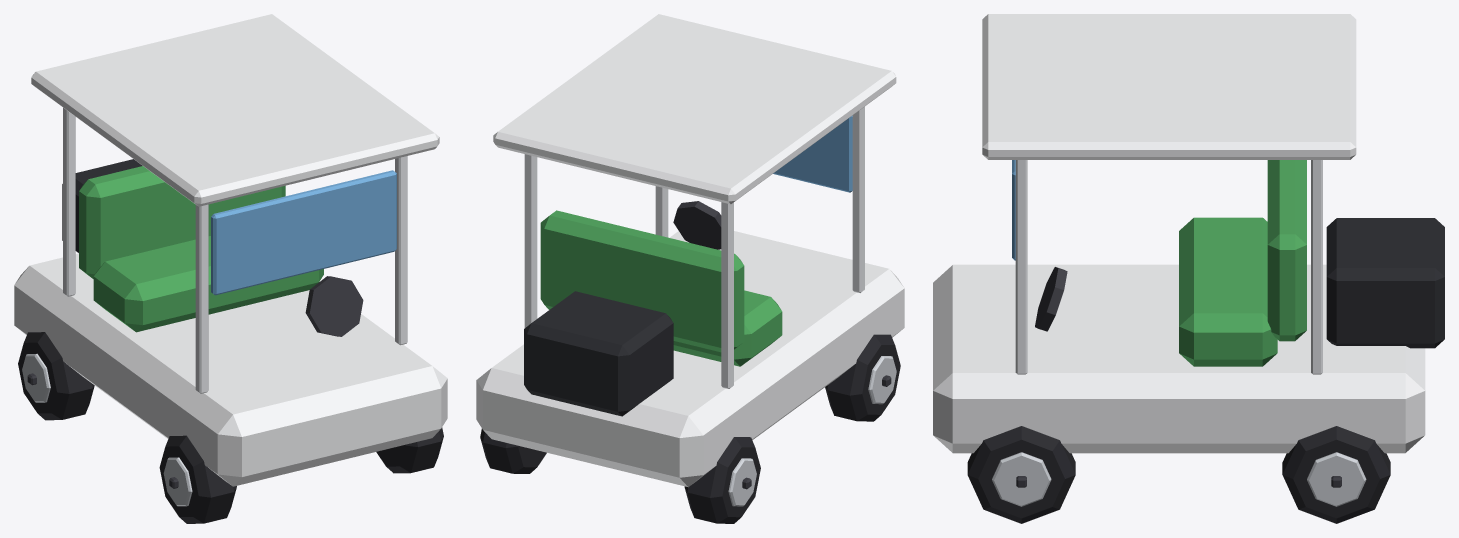
File: GolfCart.fbx
3 renders of one model, left to right at view 1: azimuth 30°, elevation 25°; view 2: azimuth 150°, elevation 25°; view 3: azimuth 270°, elevation 25°, orthographic. The views are drawn at different scales.
Visible parts, largest first — view 1: GolfCart, GolfCart_WheelBR, GolfCart_WheelFR, GolfCart_WheelFL; view 2: GolfCart, GolfCart_WheelFR, GolfCart_WheelBR, GolfCart_WheelBL; view 3: GolfCart, GolfCart_WheelFL, GolfCart_WheelBL.
Part boxes in pixels (x1,y1,x2,y2): GolfCart: (14, 14, 447, 486); GolfCart_WheelBR: (18, 332, 94, 420); GolfCart_WheelFR: (159, 435, 236, 523); GolfCart_WheelFL: (376, 427, 443, 473); GolfCart: (476, 14, 904, 487); GolfCart_WheelFR: (825, 334, 900, 421); GolfCart_WheelBR: (684, 437, 760, 523); GolfCart_WheelBL: (480, 429, 546, 473); GolfCart: (933, 14, 1444, 453); GolfCart_WheelFL: (967, 426, 1075, 523); GolfCart_WheelBL: (1282, 426, 1390, 523).
Size of the model in its own units: 3.42 by 4.3 by 5.2.
Materials: 1 (1 with a texture image).
